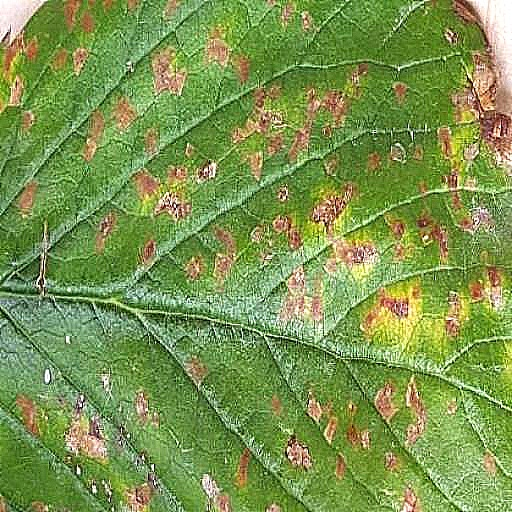Angular Leafspot: (0, 0, 511, 511)
